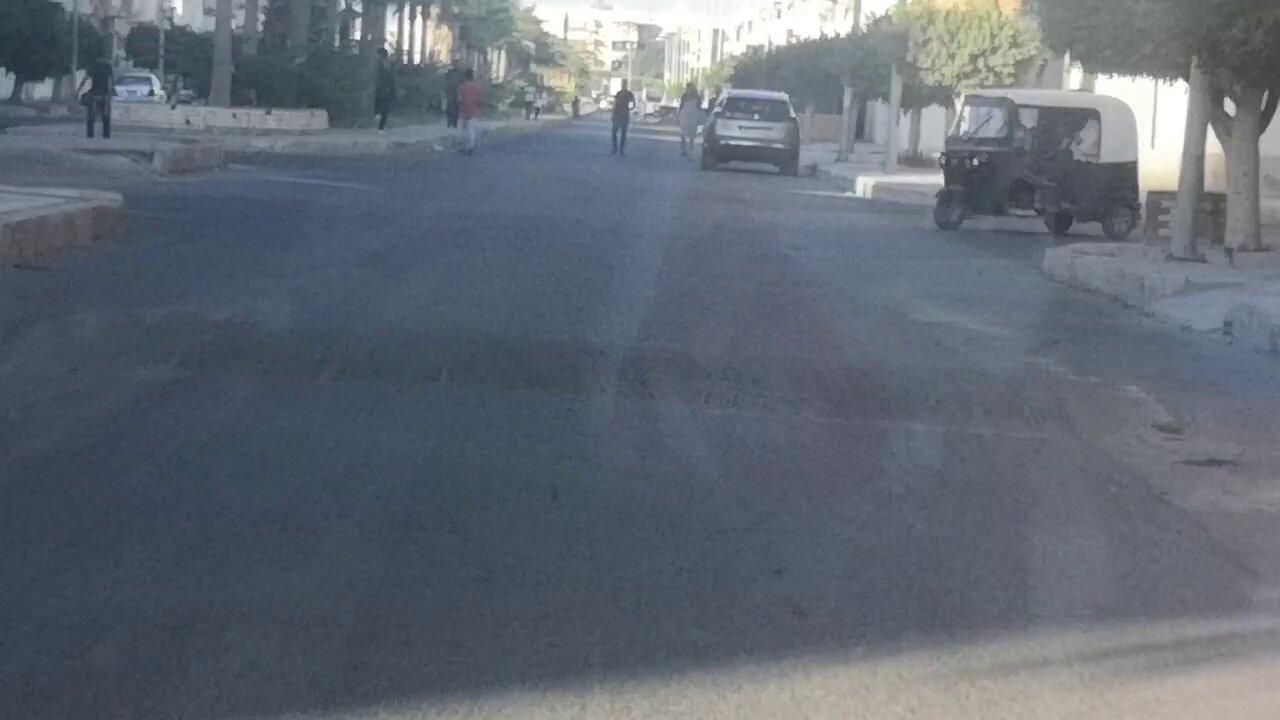Bump: (22, 313, 1090, 428)
